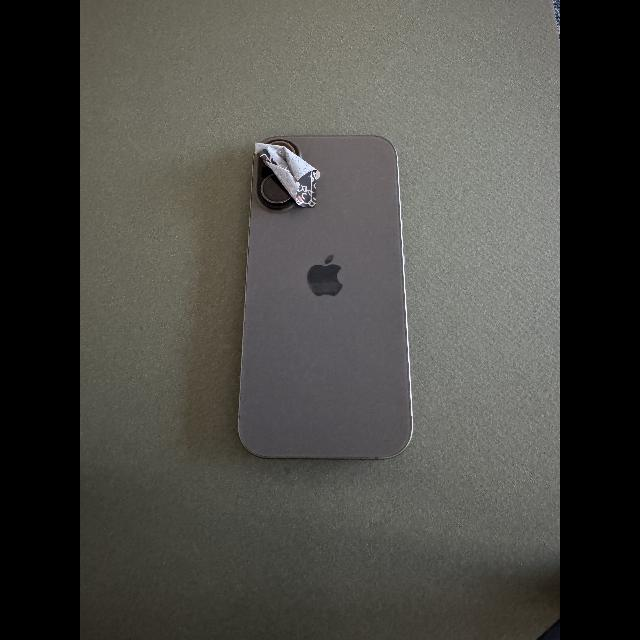lens: (262, 175, 290, 202), (271, 142, 293, 152)
phone: (238, 133, 413, 460)
sticker: (256, 143, 317, 208)
